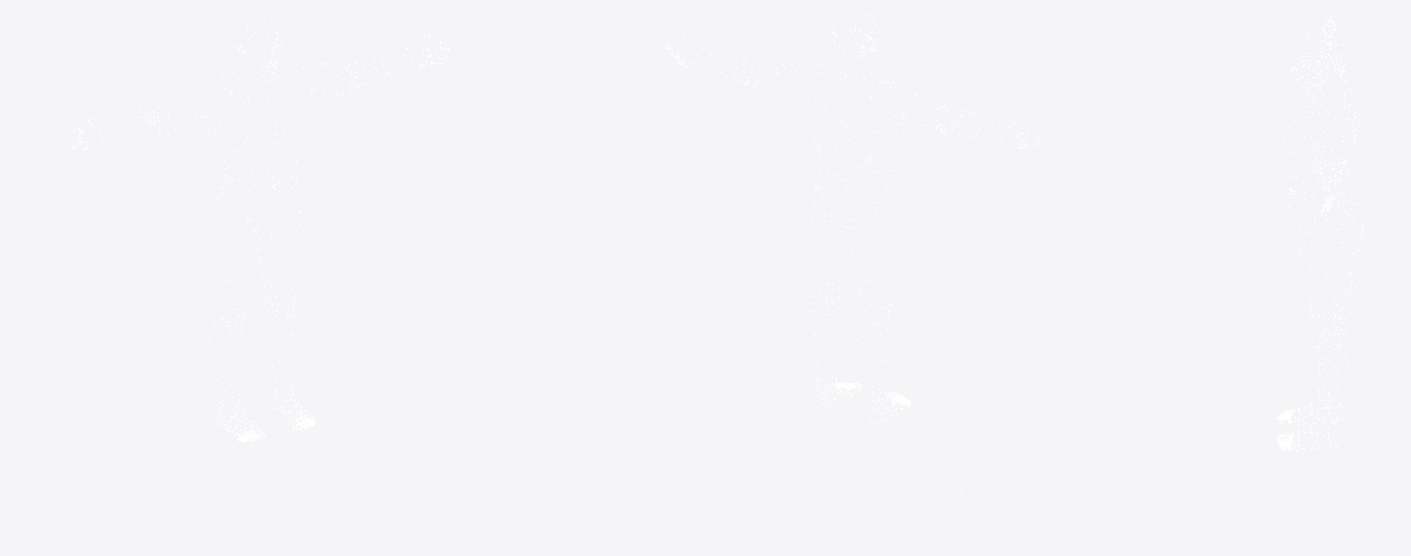
The model's file is plexus_a.glb.
The picture shows the model from 3 angles, left to right: view 1: azimuth 30°, elevation 25°; view 2: azimuth 150°, elevation 25°; view 3: azimuth 270°, elevation 25°; orthographic projection.
Bounding box in the file's own units: 1.84 × 1.65 × 0.7248.
